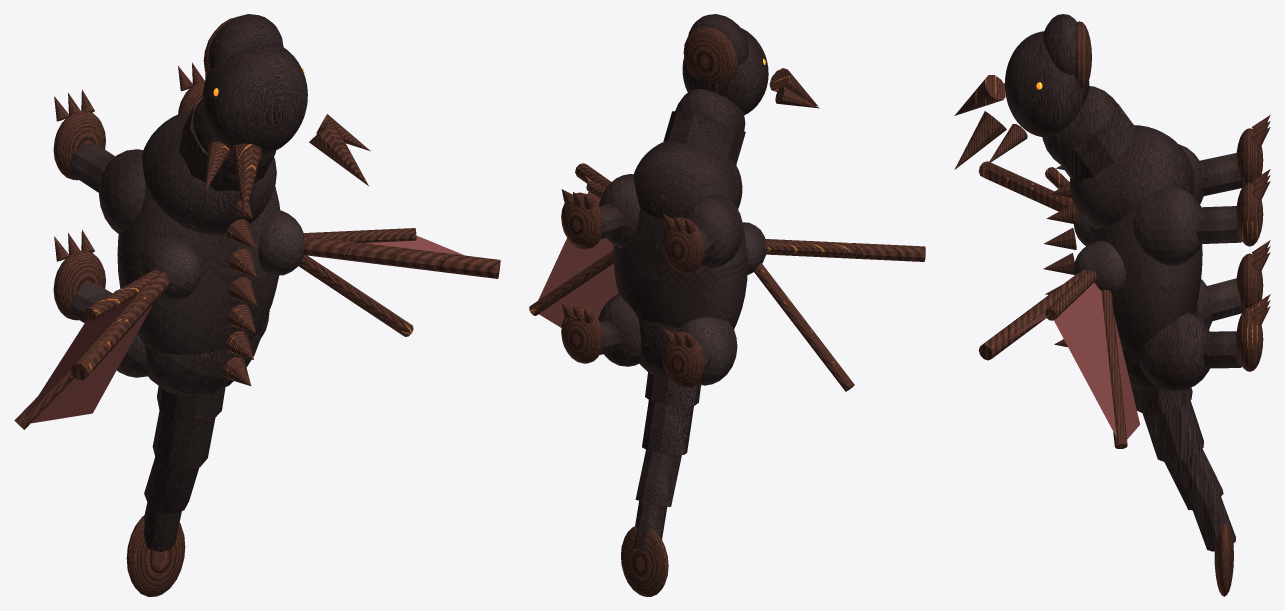
File: floor4_dragon_boss_v1.glb
3 renders of one model, left to right at view 1: azimuth 30°, elevation 25°; view 2: azimuth 150°, elevation 25°; view 3: azimuth 270°, elevation 25°, orthographic. The views are drawn at different scales.
Visible parts, largest first — view 1: Torso, Head, Chest, WingMembrane-1, WingBoneMain1, Hip, Thigh-1True, TailSpade, WingBoneMain-1, WingShoulder-1, Tail1, WingShoulder1 (+19 smaller); view 2: Torso, Chest, WingMembrane1, Head, Thigh-1True, Jaw, TailSpade, NeckBase, Tail1, Thigh-1False, Tail2, Thigh1False (+18 smaller); view 3: Torso, Chest, Head, WingMembrane1, Thigh1True, Thigh1False, NeckBase, Tail1, NeckJoint, Tail2, WingShoulder1, WingBoneRear1 (+22 smaller).
Boxes of the visible parts, <box> form: Torso: <box>117,184,280,354</box>; Head: <box>202,43,307,155</box>; Chest: <box>142,110,275,234</box>; WingMembrane-1: <box>24,299,152,423</box>; WingBoneMain1: <box>303,236,500,278</box>; Hip: <box>145,328,261,396</box>; Thigh-1True: <box>99,149,145,233</box>; TailSpade: <box>126,515,185,596</box>; WingBoneMain-1: <box>70,271,169,380</box>; WingShoulder-1: <box>139,237,200,301</box>; Tail1: <box>152,410,215,470</box>; WingShoulder1: <box>258,210,304,275</box>; Torso: <box>613,204,747,328</box>; Chest: <box>633,141,742,218</box>; WingMembrane1: <box>538,176,618,327</box>; Head: <box>682,28,768,114</box>; Thigh-1True: <box>683,195,743,268</box>; Jaw: <box>683,26,737,83</box>; TailSpade: <box>621,526,668,596</box>; NeckBase: <box>663,111,745,164</box>; Tail1: <box>642,400,693,455</box>; Thigh-1False: <box>679,317,737,385</box>; Tail2: <box>635,450,681,506</box>; Thigh1False: <box>598,294,641,366</box>; Torso: <box>1089,190,1202,352</box>; Chest: <box>1070,125,1194,228</box>; Head: <box>1004,31,1089,137</box>; WingMembrane1: <box>1006,282,1139,439</box>; Thigh1True: <box>1133,186,1201,265</box>; Thigh1False: <box>1138,313,1209,390</box>; NeckBase: <box>1055,103,1137,182</box>; Tail1: <box>1142,400,1203,462</box>; NeckJoint: <box>1042,86,1120,166</box>; Tail2: <box>1164,448,1223,510</box>; WingShoulder1: <box>1073,240,1125,297</box>; WingBoneRear1: <box>1101,290,1127,448</box>.
Size of the model in its own units: 8.18 by 11.77 by 5.85.
Materials: 3 (3 with a texture image).
